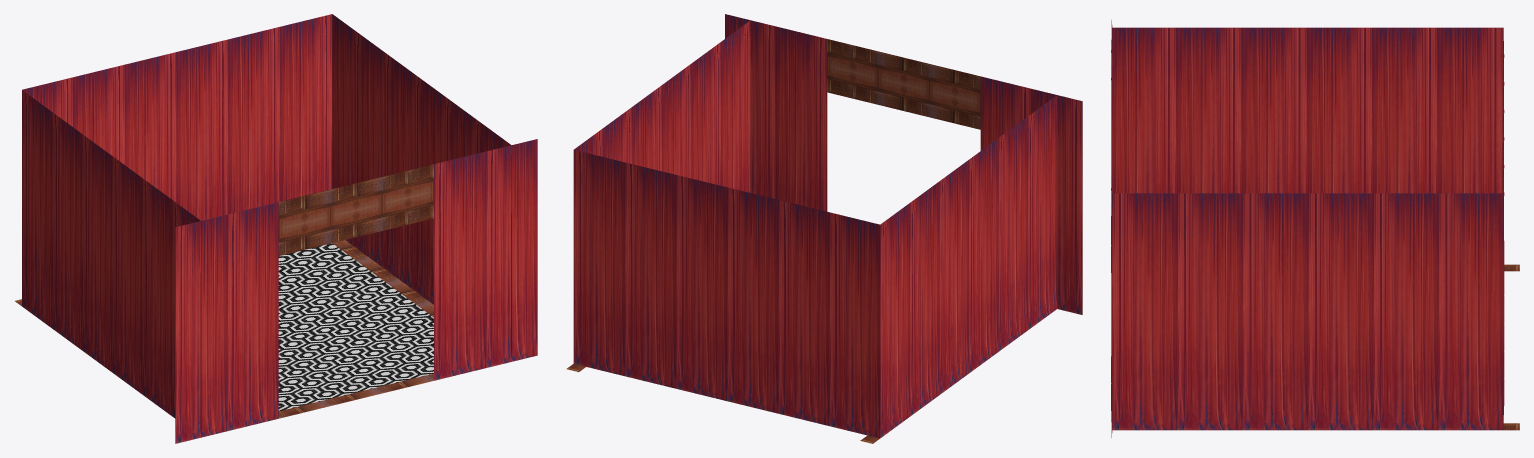
The model's file is env_start_room.FBX.
The picture shows the model from 3 angles, left to right: view 1: azimuth 30°, elevation 25°; view 2: azimuth 150°, elevation 25°; view 3: azimuth 270°, elevation 25°; orthographic projection. The views are drawn at different scales.
Parts seen in each view (by area): view 1: env_start_room; view 2: env_start_room; view 3: env_start_room.
Boxes of the visible parts, x1,y1,x2,y2 form: env_start_room: (15, 14, 537, 443); env_start_room: (566, 14, 1082, 443); env_start_room: (1111, 20, 1519, 437).
Size of the model in its own units: 551 by 315 by 493.
Materials: 3 (3 with a texture image).
